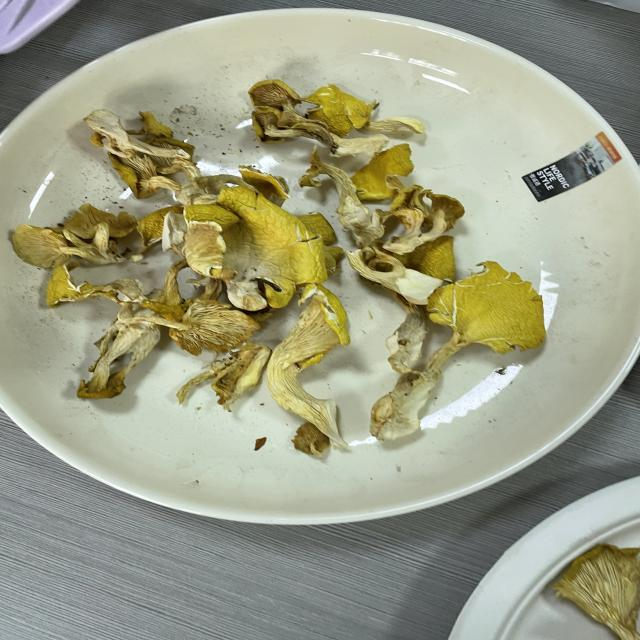Pleurotus citrinopileatus: (107, 69, 606, 475)
